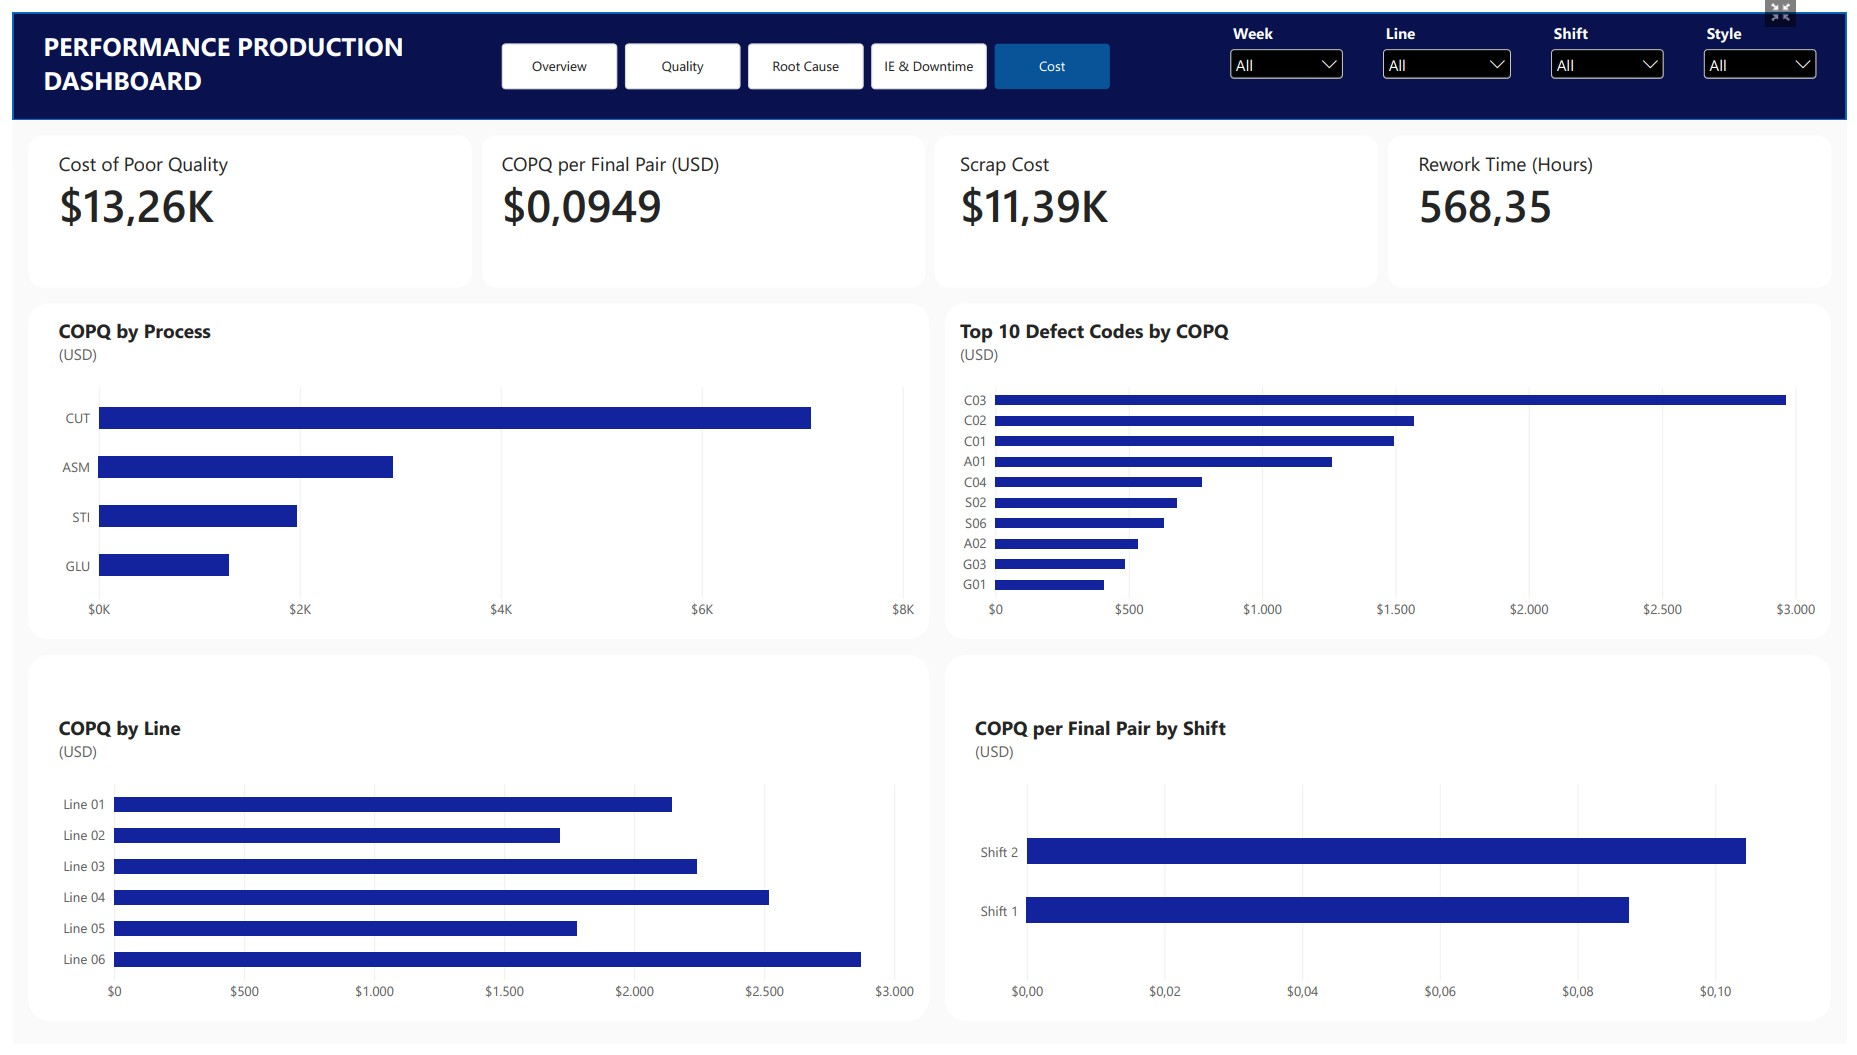

What the dashboard file says about the page in this screenshot:
{"tool":"powerbi","page":{"name":"Cost","canvas":[1920,1080],"ordinal":4},"visuals":[{"type":"shape","box":[0,0,1920,112],"z":0},{"type":"shape","box":[16,128,465,160],"z":1000},{"type":"shape","box":[16,304,944,352],"z":2000},{"type":"shape","box":[976,304,928,352],"z":3000},{"type":"shape","box":[976,672,928,384],"z":4000},{"type":"cardVisual","title":"Cost of Poor Quality","fields":{"Data":["_Measures.COPQ"]},"box":[48,144,304,80],"z":5000},{"type":"shape","box":[16,672,944,384],"z":6000},{"type":"shape","box":[490.7,128,465,160],"z":7000},{"type":"shape","box":[965.3,128,465,160],"z":8000},{"type":"shape","box":[1440,128,465,160],"z":9000},{"type":"cardVisual","title":"COPQ per Final Pair (USD)","fields":{"Data":["_Measures.COPQ per Final Pair"]},"box":[512,144,304,80],"z":10000},{"type":"cardVisual","title":"Scrap Cost","fields":{"Data":["_Measures.Scrap Cost"]},"box":[992,144,304,80],"z":11000},{"type":"cardVisual","title":"Rework Time (Hours)","fields":{"Data":["_Measures.Rework Hours"]},"box":[1472,144,304,80],"z":12000},{"type":"barChart","title":"COPQ by Process","fields":{"Category":["Fact_Production.Process_ID"],"Y":["_Measures.COPQ"]},"box":[32,304,928,352],"z":13000},{"type":"barChart","title":"Top 10 Defect Codes by COPQ","fields":{"Category":["Dim_Defect.Defect_Code"],"Y":["_Measures.COPQ"]},"box":[976,304,928,352],"z":14000},{"type":"barChart","fields":{"Category":["Fact_Production.Shift"],"Y":["_Measures.COPQ per Final Pair"]},"box":[992,720,896,336],"z":15000},{"type":"barChart","title":"COPQ by Line","fields":{"Category":["Dim_Line.Line_Name"],"Y":["_Measures.COPQ"]},"box":[32,720,928,336],"z":16000},{"type":"textbox","box":[32,16,480,80],"z":17000},{"type":"pageNavigator","box":[512,32,640,48],"z":18000},{"type":"slicer","fields":{"Values":["Dim_Calendar.ISO_Week"]},"box":[1270.4,9.6,128,80],"z":19000},{"type":"slicer","fields":{"Values":["Dim_Line.Line_Name"]},"box":[1430.4,9.6,144,80],"z":20000},{"type":"slicer","fields":{"Values":["Fact_Production.Shift"]},"box":[1606.4,9.6,128,80],"z":21000},{"type":"slicer","fields":{"Values":["Fact_Production.Style_ID"]},"box":[1766.4,9.6,128,80],"z":22000}]}

Visuals, with their boxes in screenshot pixels (x1, y1, x2, y2), scaled from the page's 1920x1080 canvas onto the 1857x1055 screenshot:
shape: x1=0, y1=0, x2=1856, y2=109
shape: x1=15, y1=125, x2=465, y2=281
shape: x1=15, y1=297, x2=928, y2=641
shape: x1=944, y1=297, x2=1842, y2=641
shape: x1=944, y1=656, x2=1842, y2=1032
"Cost of Poor Quality" cardVisual: x1=46, y1=141, x2=340, y2=219
shape: x1=15, y1=656, x2=928, y2=1032
shape: x1=475, y1=125, x2=924, y2=281
shape: x1=934, y1=125, x2=1383, y2=281
shape: x1=1393, y1=125, x2=1842, y2=281
"COPQ per Final Pair (USD)" cardVisual: x1=495, y1=141, x2=789, y2=219
"Scrap Cost" cardVisual: x1=959, y1=141, x2=1253, y2=219
"Rework Time (Hours)" cardVisual: x1=1424, y1=141, x2=1718, y2=219
"COPQ by Process" barChart: x1=31, y1=297, x2=928, y2=641
"Top 10 Defect Codes by COPQ" barChart: x1=944, y1=297, x2=1842, y2=641
barChart - Fact_Production.Shift x _Measures.COPQ per Final Pair: x1=959, y1=703, x2=1826, y2=1032
"COPQ by Line" barChart: x1=31, y1=703, x2=928, y2=1032
textbox: x1=31, y1=16, x2=495, y2=94
pageNavigator: x1=495, y1=31, x2=1114, y2=78
slicer - Dim_Calendar.ISO_Week: x1=1229, y1=9, x2=1353, y2=88
slicer - Dim_Line.Line_Name: x1=1383, y1=9, x2=1523, y2=88
slicer - Fact_Production.Shift: x1=1554, y1=9, x2=1677, y2=88
slicer - Fact_Production.Style_ID: x1=1708, y1=9, x2=1832, y2=88
